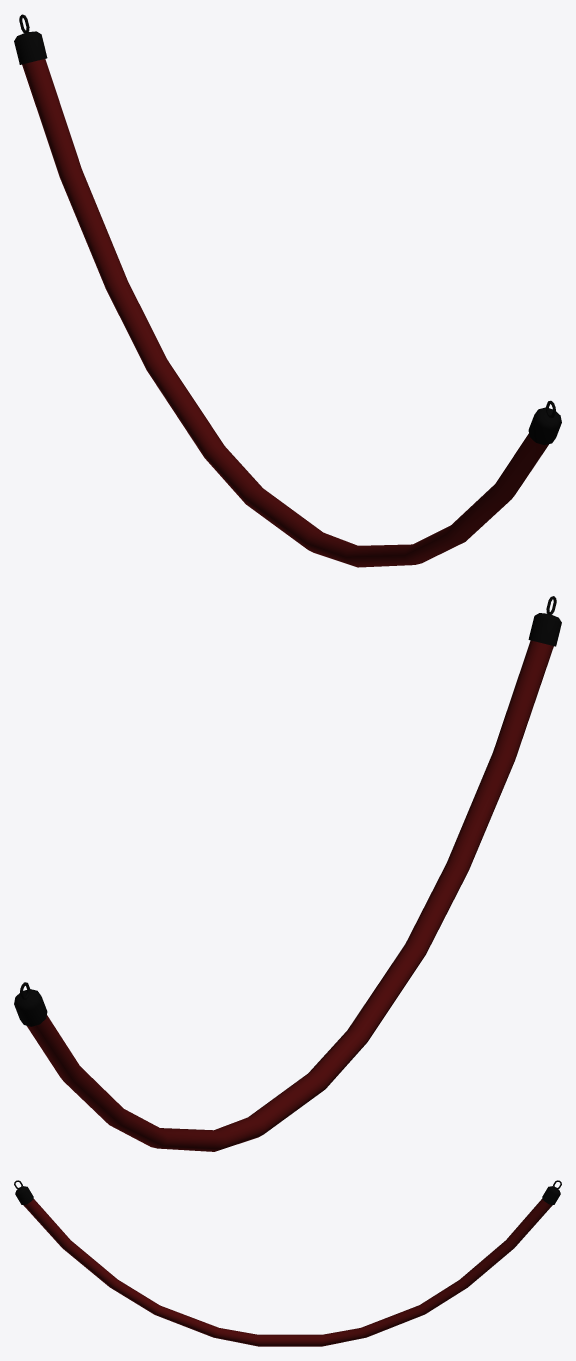
The model's file is Velvet.fbx.
The picture shows the model from 3 angles, top to bottom: view 1: azimuth 30°, elevation 25°; view 2: azimuth 150°, elevation 25°; view 3: azimuth 270°, elevation 25°; orthographic projection. The views are drawn at different scales.
Visible parts, largest first — view 1: pCylinder20; view 2: pCylinder20; view 3: pCylinder20.
Boxes of the visible parts, left/top/right/bottom form: pCylinder20: left=14, top=14, right=561, bottom=567; pCylinder20: left=14, top=596, right=561, bottom=1151; pCylinder20: left=14, top=1180, right=561, bottom=1346.
Size of the model in its own units: 2.71 by 33.58 by 101.
